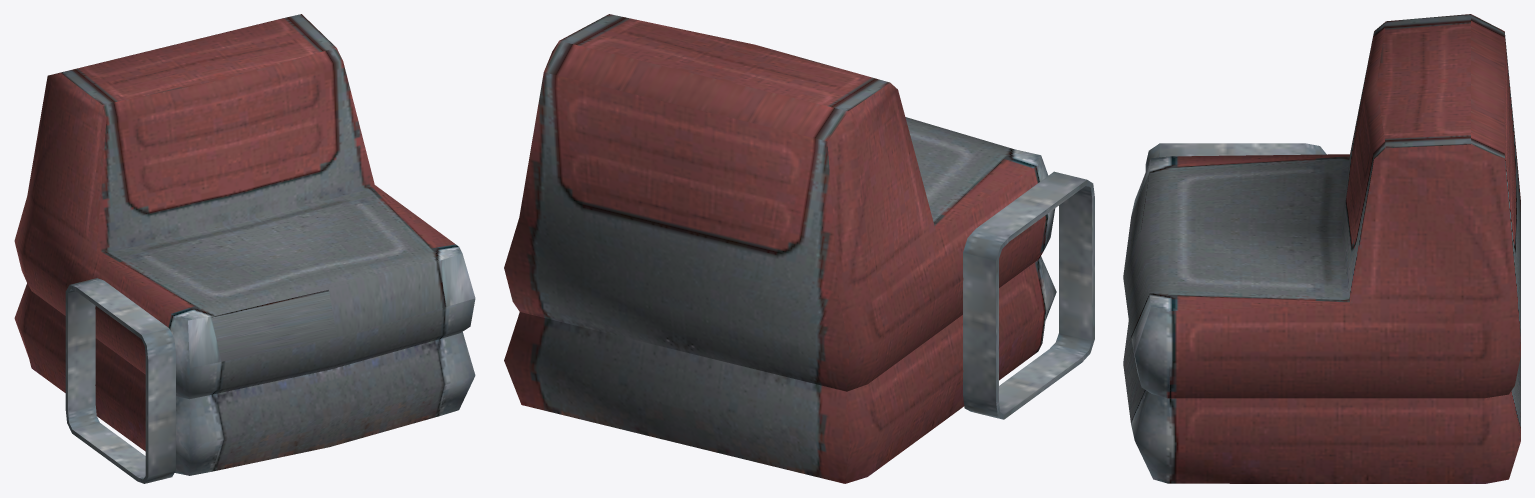
File: frn_all_chair_upholstered_s1_l2.fbx
3 renders of one model, left to right at view 1: azimuth 30°, elevation 25°; view 2: azimuth 150°, elevation 25°; view 3: azimuth 270°, elevation 25°, orthographic. The views are drawn at different scales.
Parts seen in each view (by area): view 1: mesh_node; view 2: mesh_node; view 3: mesh_node.
Boxes of the visible parts, left/top/right/bottom form: mesh_node: left=14, top=14, right=475, bottom=483; mesh_node: left=504, top=14, right=1094, bottom=483; mesh_node: left=1123, top=14, right=1520, bottom=483.
Size of the model in its own units: 0.8992 by 0.7625 by 0.8401.
Materials: 1 (1 with a texture image).
